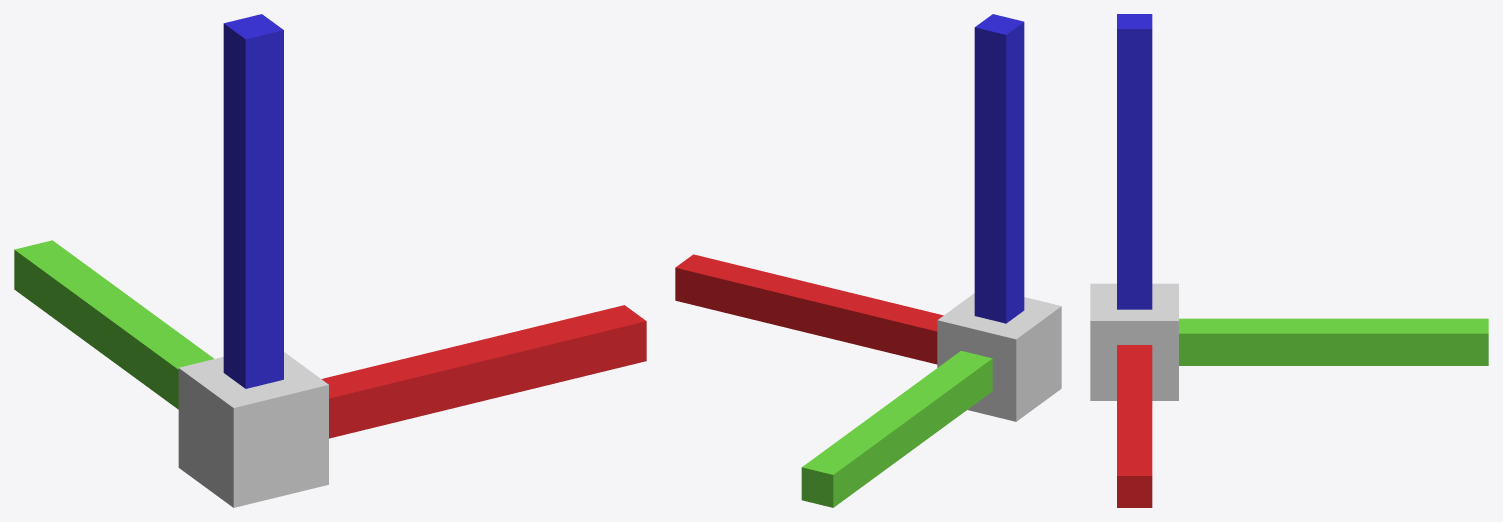
The model's file is frame.gltf.
3 renders of one model, left to right at view 1: azimuth 30°, elevation 25°; view 2: azimuth 150°, elevation 25°; view 3: azimuth 270°, elevation 25°, orthographic. The views are drawn at different scales.
Parts seen in each view (by area): view 1: Cube.002, Cube, target, Cube.001; view 2: Cube.002, Cube, Cube.001, target; view 3: Cube.001, Cube.002, target, Cube.
Part boxes in pixels (x1,y1,x2,y2): Cube.002: [223, 14, 283, 388]; Cube: [321, 305, 646, 438]; target: [178, 352, 328, 507]; Cube.001: [14, 240, 214, 409]; Cube.002: [974, 14, 1024, 323]; Cube: [675, 254, 943, 364]; Cube.001: [801, 351, 992, 507]; target: [937, 293, 1061, 421]; Cube.001: [1179, 318, 1488, 365]; Cube.002: [1117, 14, 1152, 309]; target: [1090, 283, 1178, 400]; Cube: [1117, 345, 1152, 507].
Size of the model in its own units: 2.25 by 2.25 by 2.25.
